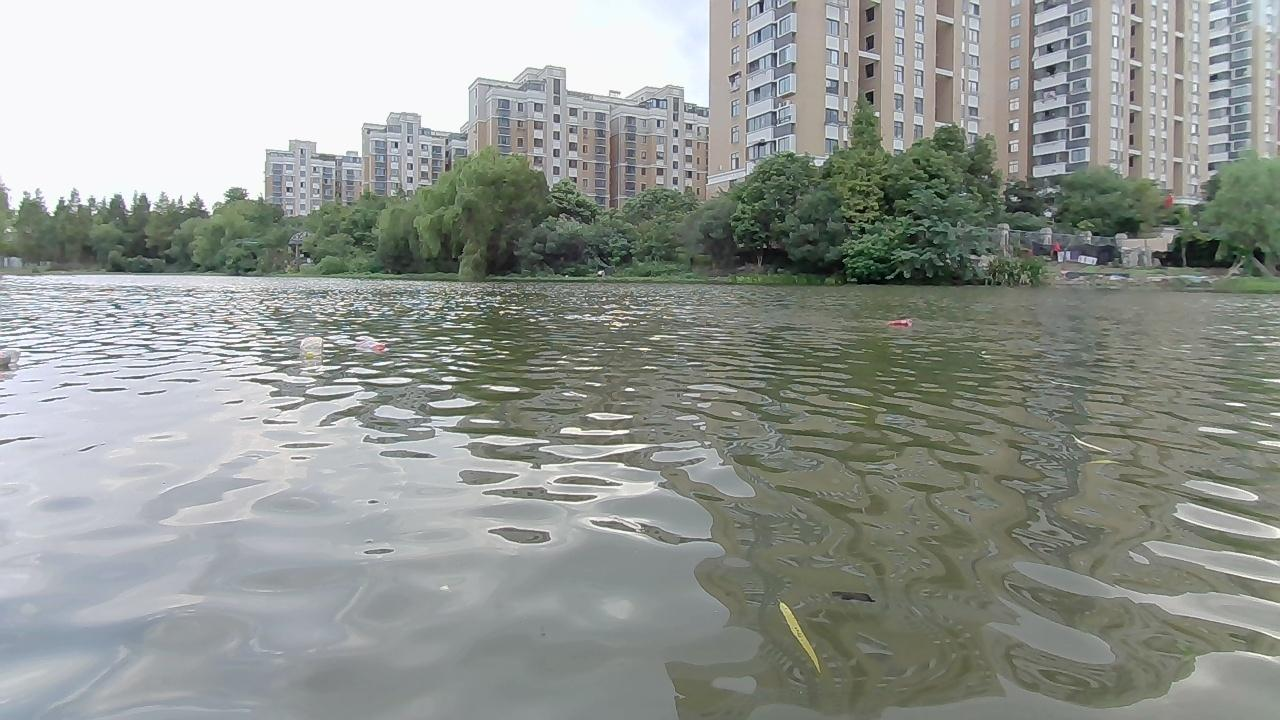bottle: (356, 333, 388, 355), (296, 338, 323, 358), (0, 350, 21, 373), (886, 317, 911, 324)
